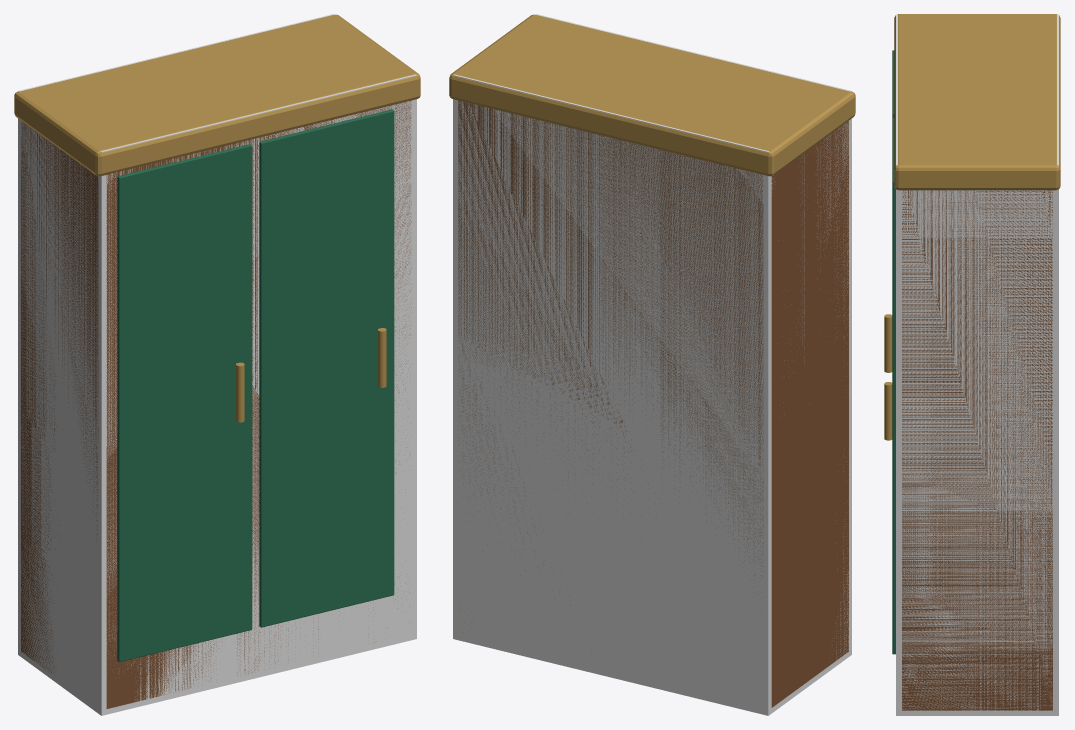
File: member-locker_boutique.glb
3 renders of one model, left to right at view 1: azimuth 30°, elevation 25°; view 2: azimuth 150°, elevation 25°; view 3: azimuth 270°, elevation 25°, orthographic. The views are drawn at different scales.
Parts seen in each view (by area): view 1: COL_member-locker, MESH_Door_02, MESH_Door_01, MESH_Crown, MESH_CabinetCarcass; view 2: COL_member-locker, MESH_CabinetCarcass, MESH_Crown; view 3: COL_member-locker, MESH_CabinetCarcass, MESH_Crown, MESH_Door_02, MESH_Handle, MESH_Handle.001.
Boxes of the visible parts, left/top/right/bottom form: COL_member-locker: left=18, top=14, right=416, bottom=715; MESH_Door_02: left=259, top=109, right=394, bottom=627; MESH_Door_01: left=117, top=144, right=252, bottom=662; MESH_Crown: left=14, top=14, right=420, bottom=176; MESH_CabinetCarcass: left=21, top=100, right=411, bottom=708; COL_member-locker: left=453, top=14, right=851, bottom=715; MESH_CabinetCarcass: left=458, top=100, right=848, bottom=707; MESH_Crown: left=449, top=14, right=855, bottom=176; COL_member-locker: left=896, top=14, right=1058, bottom=715; MESH_CabinetCarcass: left=902, top=190, right=1052, bottom=710; MESH_Crown: left=894, top=14, right=1060, bottom=190; MESH_Door_02: left=892, top=118, right=895, bottom=654; MESH_Handle: left=884, top=314, right=892, bottom=372; MESH_Handle.001: left=884, top=382, right=892, bottom=440.
Bounding box in the file's own units: 1.24 × 2.05 × 0.5946.
